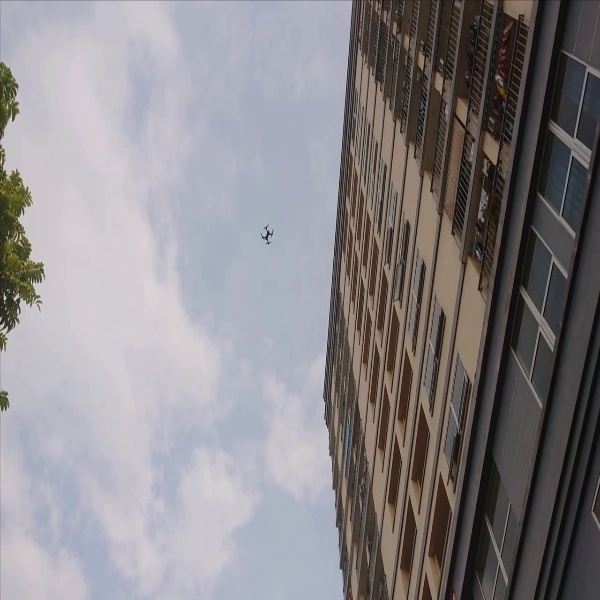drone: (256, 219, 282, 251)
